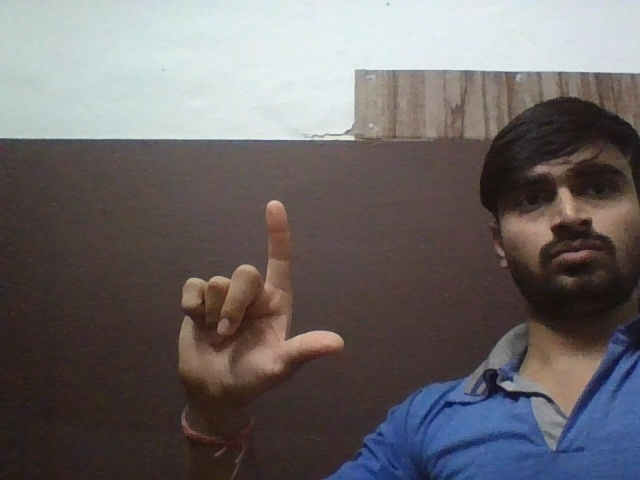L: (168, 193, 355, 402)
